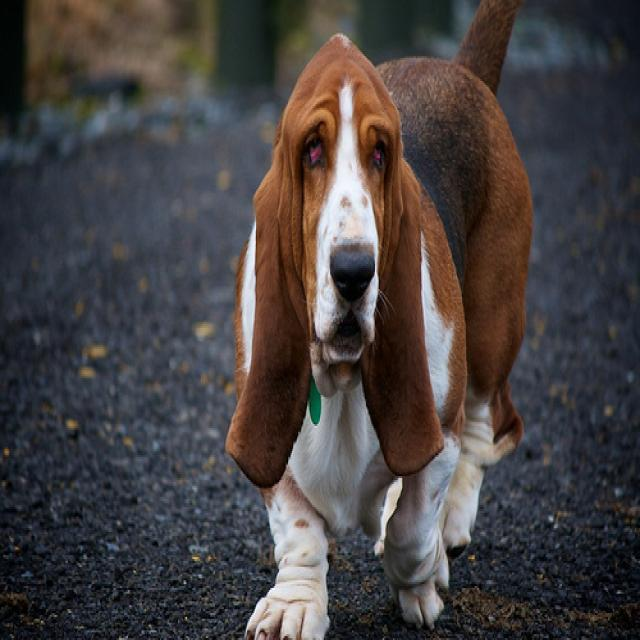dog-basset_hound: (220, 2, 541, 636)
